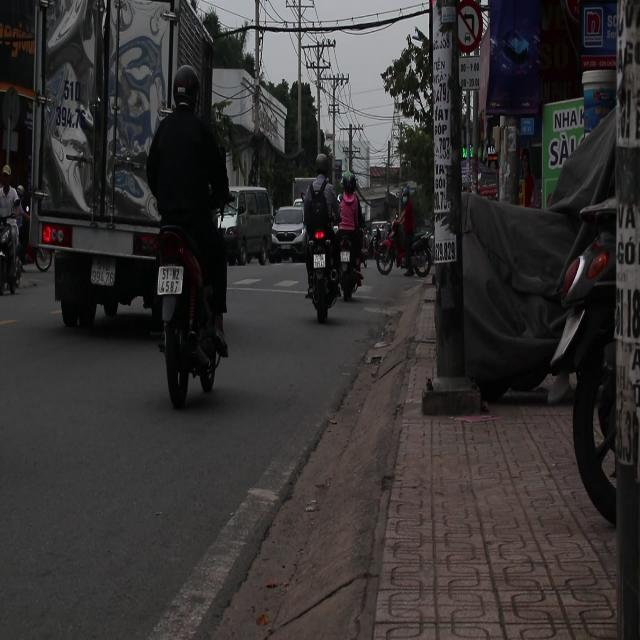car: (269, 206, 307, 262)
motorbike: (154, 218, 226, 402), (302, 218, 350, 324), (381, 225, 432, 283), (1, 212, 27, 298)
truck: (3, 0, 213, 341), (220, 188, 276, 266)
